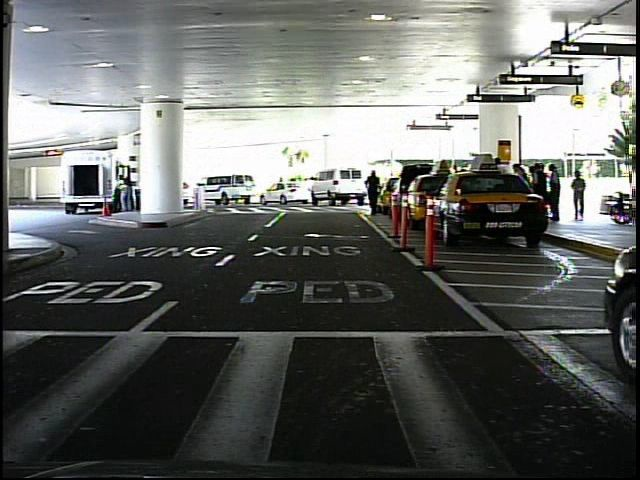person: (364, 168, 387, 219), (571, 170, 590, 225), (110, 174, 125, 215)
